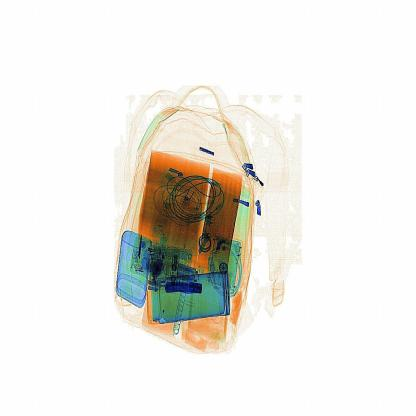knife: (163, 269, 210, 307)
